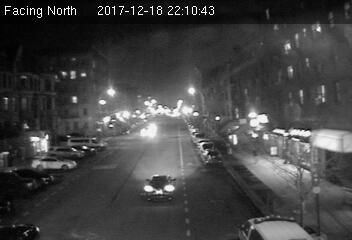car: (142, 172, 177, 201), (202, 149, 221, 164)
police: (234, 213, 314, 240)
